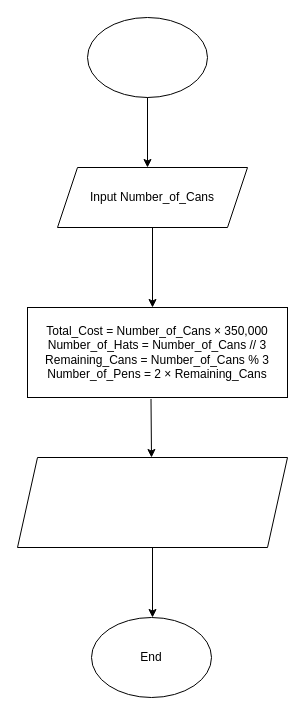
Image size: 305x715. Some labels were removed from this diagram. The shapes that lost their labels are listed below. From the top down, each one's centre as x and y in pixels, then its label:
pixel 147 57: Start
pixel 152 502: Print Total_Cost, Number_of_Hats, Number_of_Pens
